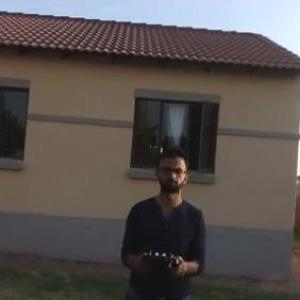follow: (112, 135, 205, 299)
